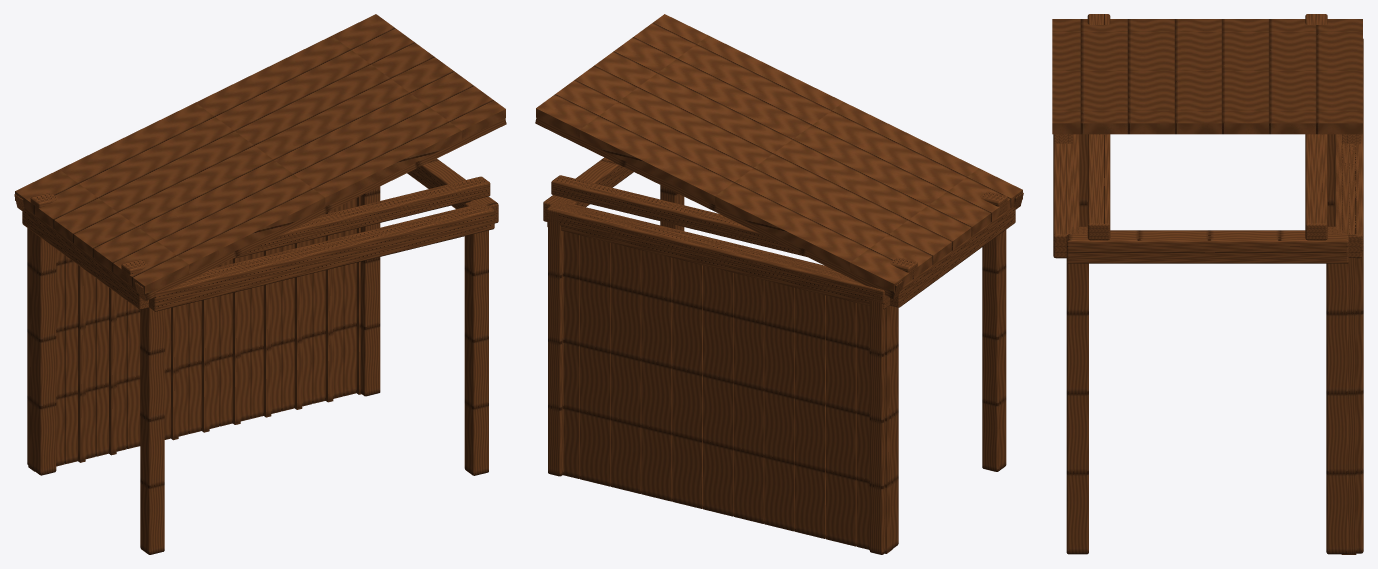
The model's file is rural-scavenging-settlements-bus-stop-timber-shelter-51267faf.glb.
3 renders of one model, left to right at view 1: azimuth 30°, elevation 25°; view 2: azimuth 150°, elevation 25°; view 3: azimuth 270°, elevation 25°, orthographic. The views are drawn at different scales.
Parts seen in each view (by area): view 1: bus-stop-timber-shelter; view 2: bus-stop-timber-shelter; view 3: bus-stop-timber-shelter.
Part boxes in pixels (left/top/right/bottom): bus-stop-timber-shelter: left=14, top=14, right=506, bottom=554; bus-stop-timber-shelter: left=535, top=14, right=1023, bottom=554; bus-stop-timber-shelter: left=1052, top=14, right=1363, bottom=554.
Bounding box in the file's own units: 2.67 × 2.56 × 1.65.
2 materials, 1 textured.
